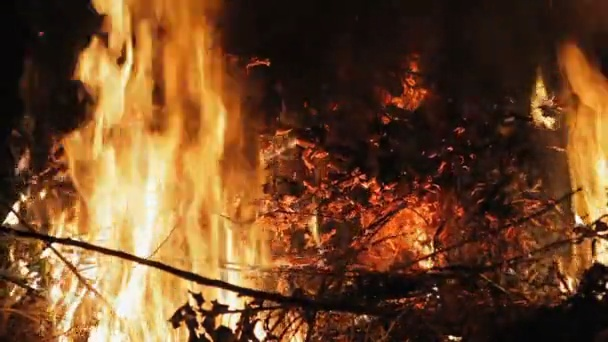fire: (5, 3, 306, 342), (562, 59, 608, 293), (533, 72, 555, 127)
